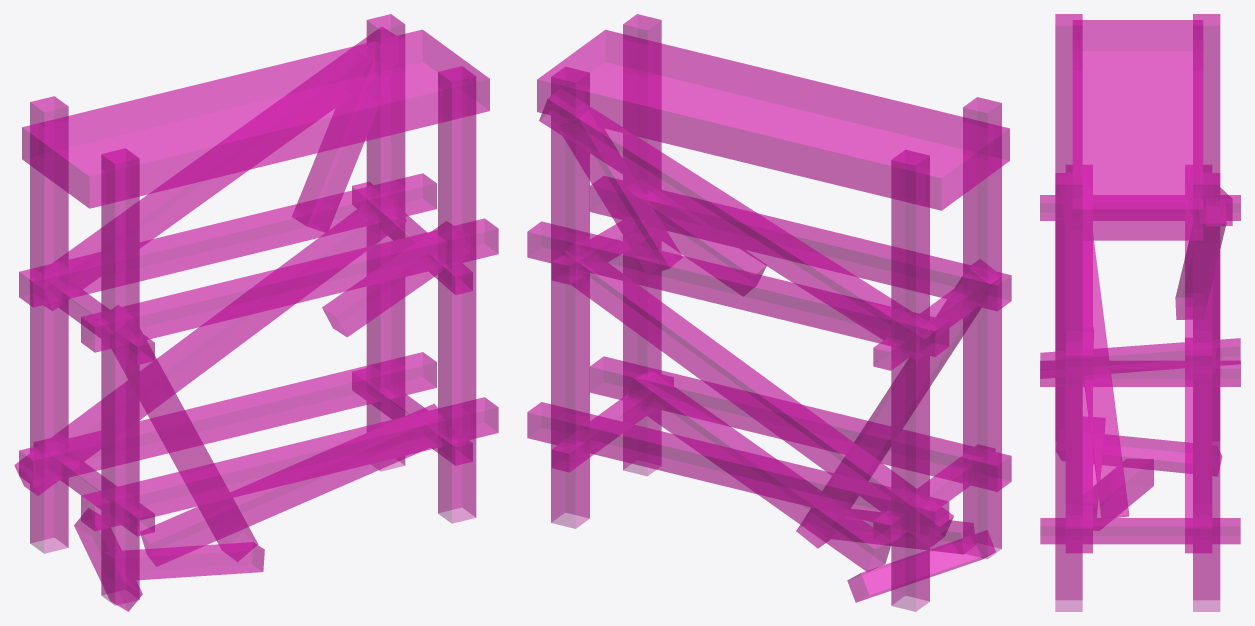
The model's file is SM_Prop_Scaffolding_02_Damaged_01_Collision.fbx.
3 renders of one model, left to right at view 1: azimuth 30°, elevation 25°; view 2: azimuth 150°, elevation 25°; view 3: azimuth 270°, elevation 25°, orthographic. The views are drawn at different scales.
Visible parts, largest first — view 1: SM_Prop_Scaffolding_02_Damaged_01_Collision; view 2: SM_Prop_Scaffolding_02_Damaged_01_Collision; view 3: SM_Prop_Scaffolding_02_Damaged_01_Collision.
Part boxes in pixels (<box>): SM_Prop_Scaffolding_02_Damaged_01_Collision: <box>14,14,498,611</box>; SM_Prop_Scaffolding_02_Damaged_01_Collision: <box>527,14,1011,611</box>; SM_Prop_Scaffolding_02_Damaged_01_Collision: <box>1040,14,1240,611</box>.
Bounding box in the file's own units: 574 × 609 × 252.
